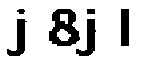8: (43, 8, 82, 48)
j: (3, 5, 30, 60), (78, 7, 99, 60)
l: (117, 6, 142, 48)
